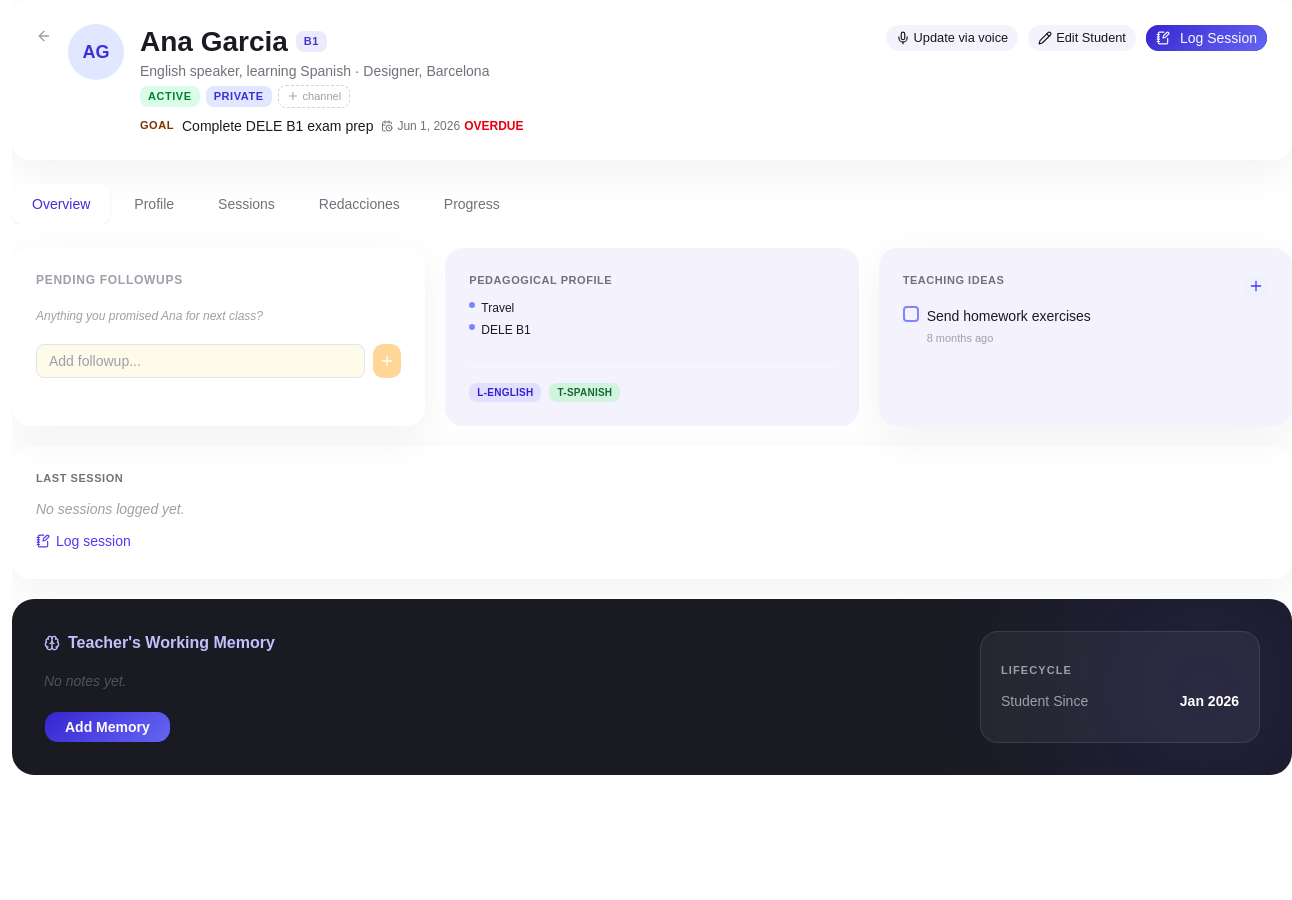
StudentDetail - Profile tab sections › renders Commercial section with active status
Expected: the heading "Ana Garcia" is shown, [140,24,288,59]
What coordinates should you click on to do the following:
click the tab with test id "tab-profile"
I would click on:
 (154, 204)
Its box is [114,184,194,224].
(page scrolled)
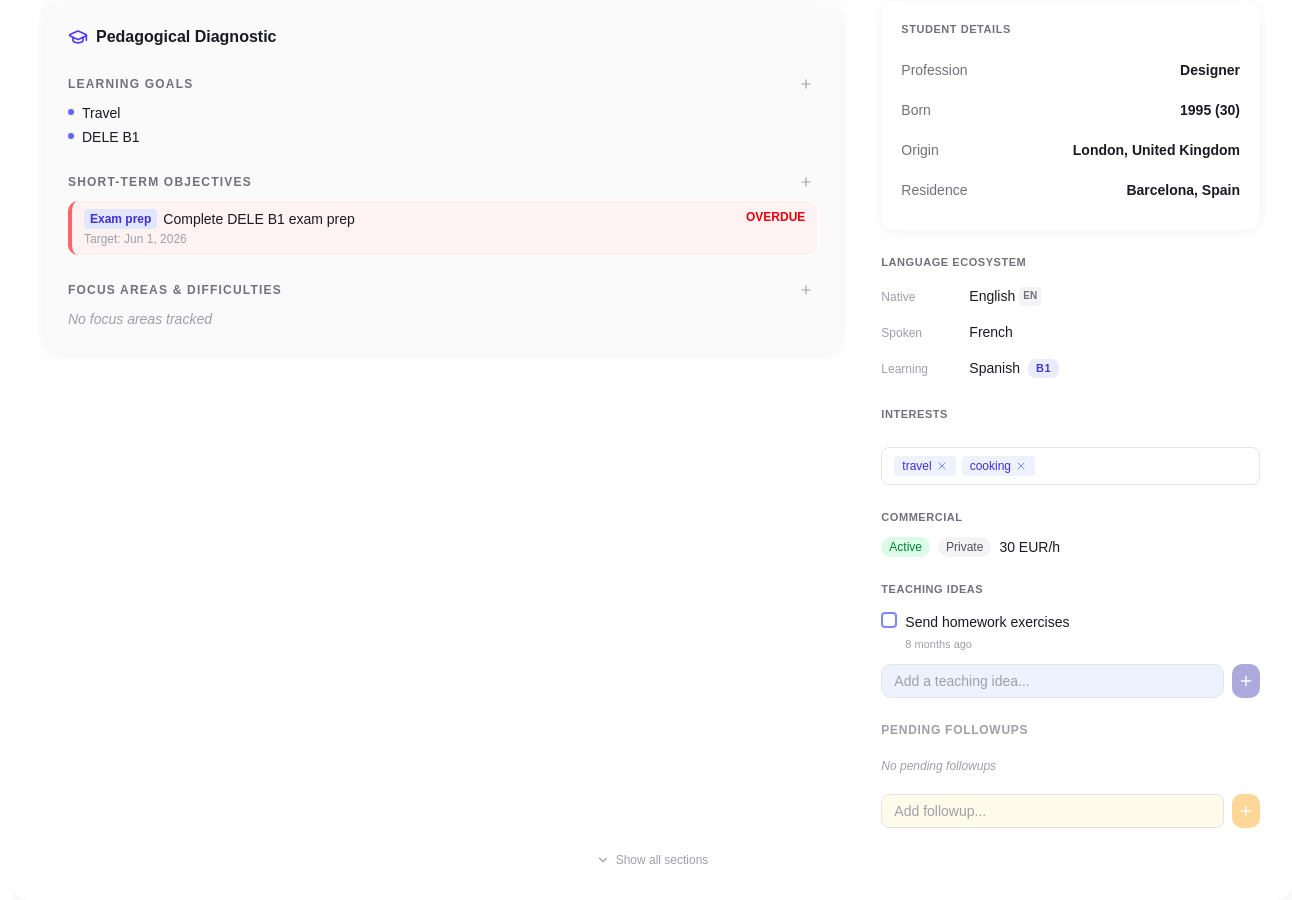
Result: the element with test id "profile-commercial" is shown at [881,511,1060,557]
Result: the icon with test id "active-status-badge" reads "Active" at [889,540,922,554]
Result: the text "30 EUR/h" is shown at [999,537,1060,557]
